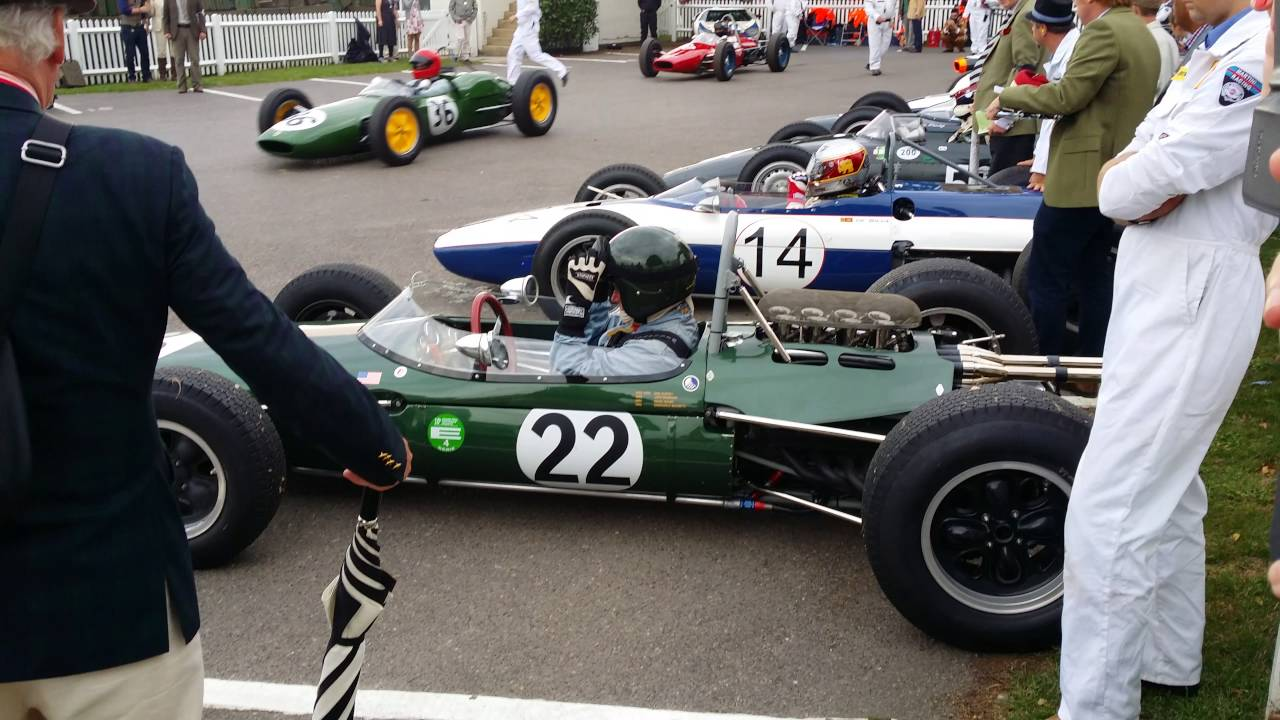f1_car: (119, 203, 1122, 674), (426, 111, 1075, 345), (245, 43, 573, 181), (637, 7, 799, 89)
helmet: (588, 217, 706, 324), (792, 134, 881, 201), (405, 46, 446, 83)
